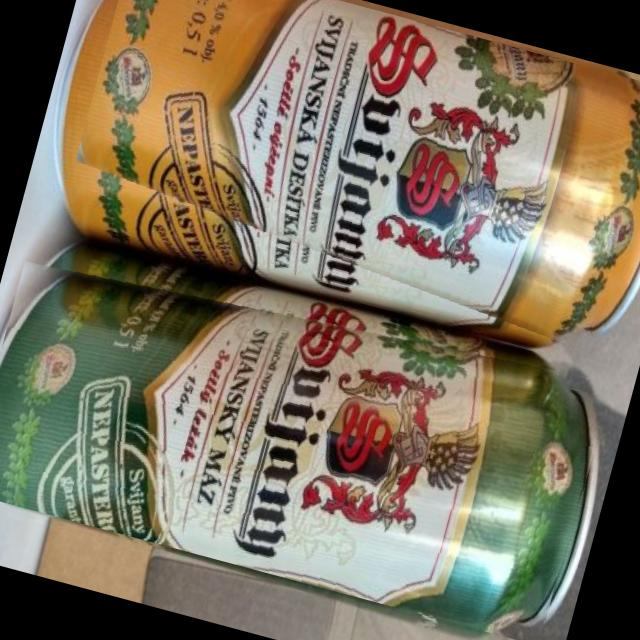Cans: (0, 227, 612, 640), (60, 0, 640, 363)
